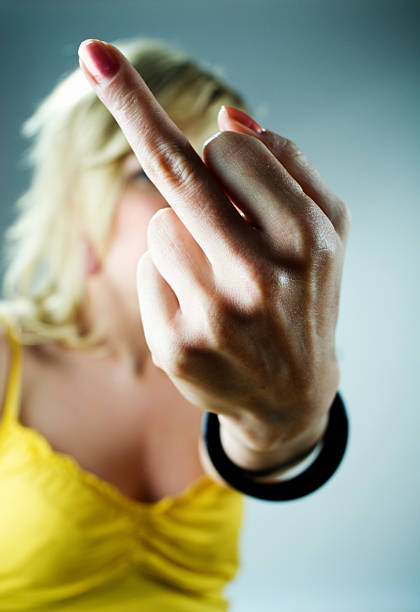insulting_gesture: (78, 35, 347, 416)
